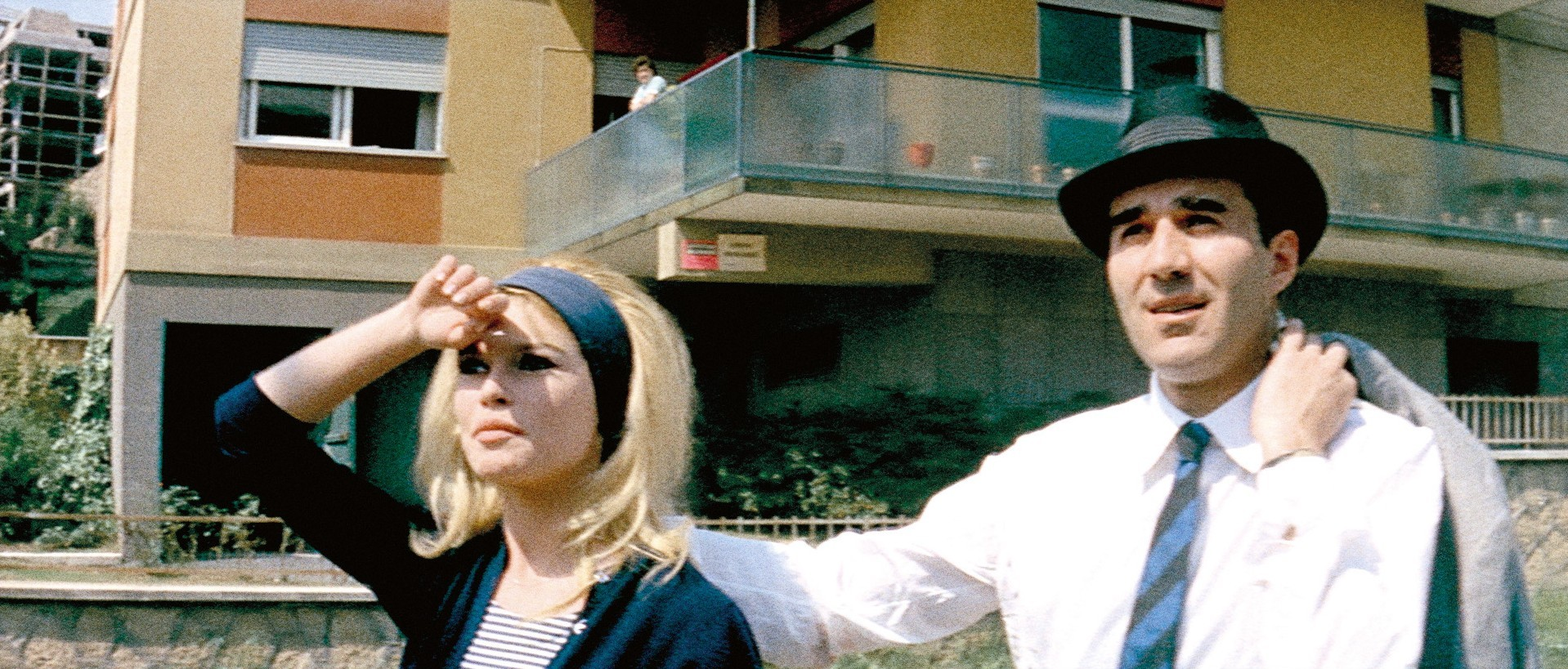27: (425, 267, 614, 507)
32: (633, 64, 652, 84)
37: (1082, 122, 1291, 399)
Coat: (199, 362, 767, 667)
Female: (425, 267, 614, 507)
Hair Band: (493, 248, 651, 467)
Hat: (1055, 86, 1334, 266)
Male: (1082, 122, 1291, 399), (633, 64, 652, 84)
Shirt: (686, 363, 1453, 669)
Tie: (1111, 420, 1213, 669)
